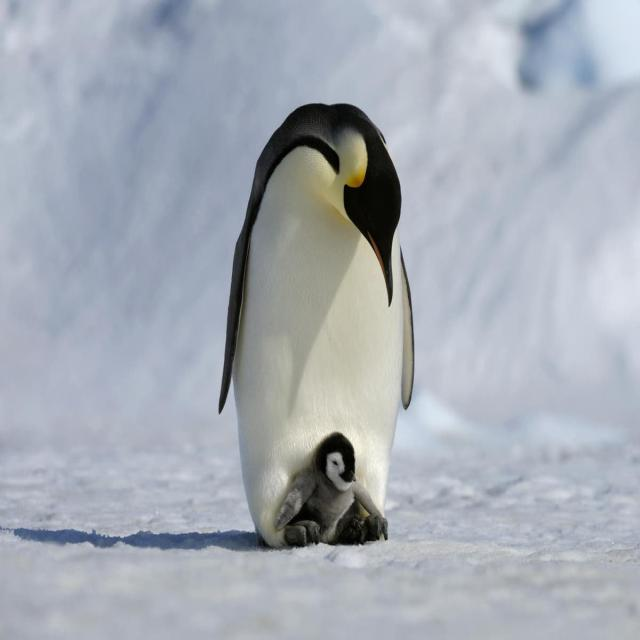penguin: (219, 104, 414, 548)
